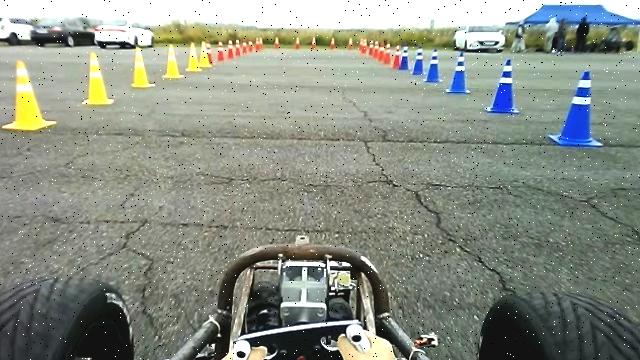blue cone: (548, 70, 604, 146), (485, 58, 521, 113), (446, 51, 471, 93), (424, 48, 444, 83), (411, 44, 425, 75)
yellow cone: (2, 59, 57, 130), (82, 52, 115, 104), (131, 44, 156, 88), (162, 43, 184, 78), (185, 41, 202, 72)
